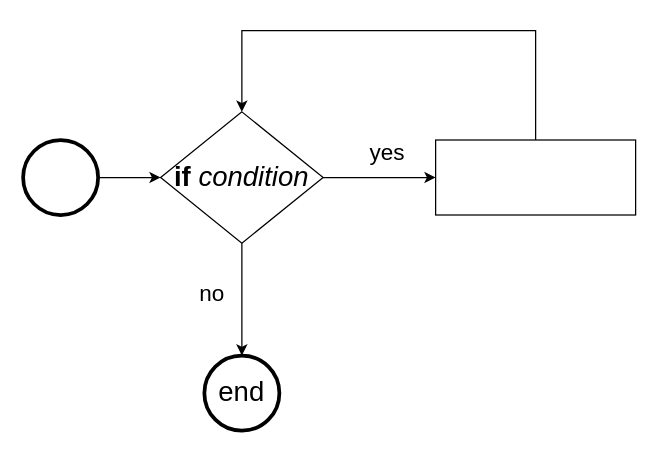
Some shapes in this 658 by 454 pixel diagram are drawn without their labels. The centre of each missing label's shape, as x and y in pixels:
instructions: point (535, 177)
start: point (60, 177)
